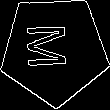M_E: (29, 26, 79, 74)
